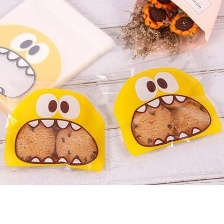snack: (89, 42, 224, 168), (0, 66, 116, 178)
